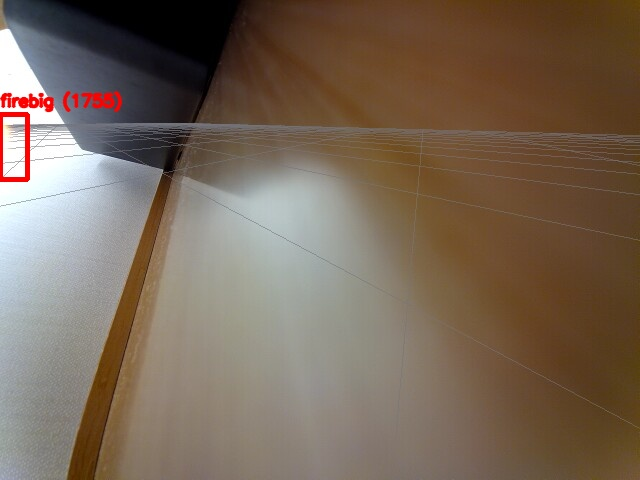firebig: (0, 114, 27, 179)
